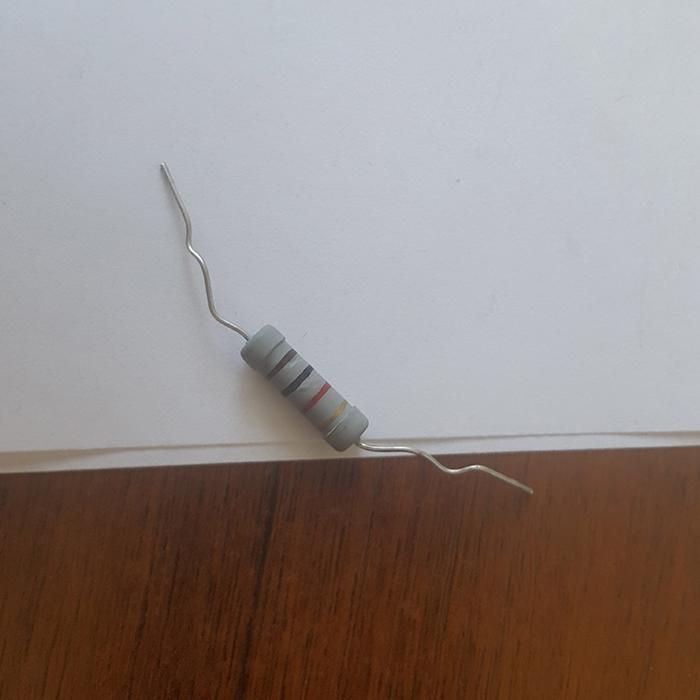resistor: (236, 322, 365, 450)
